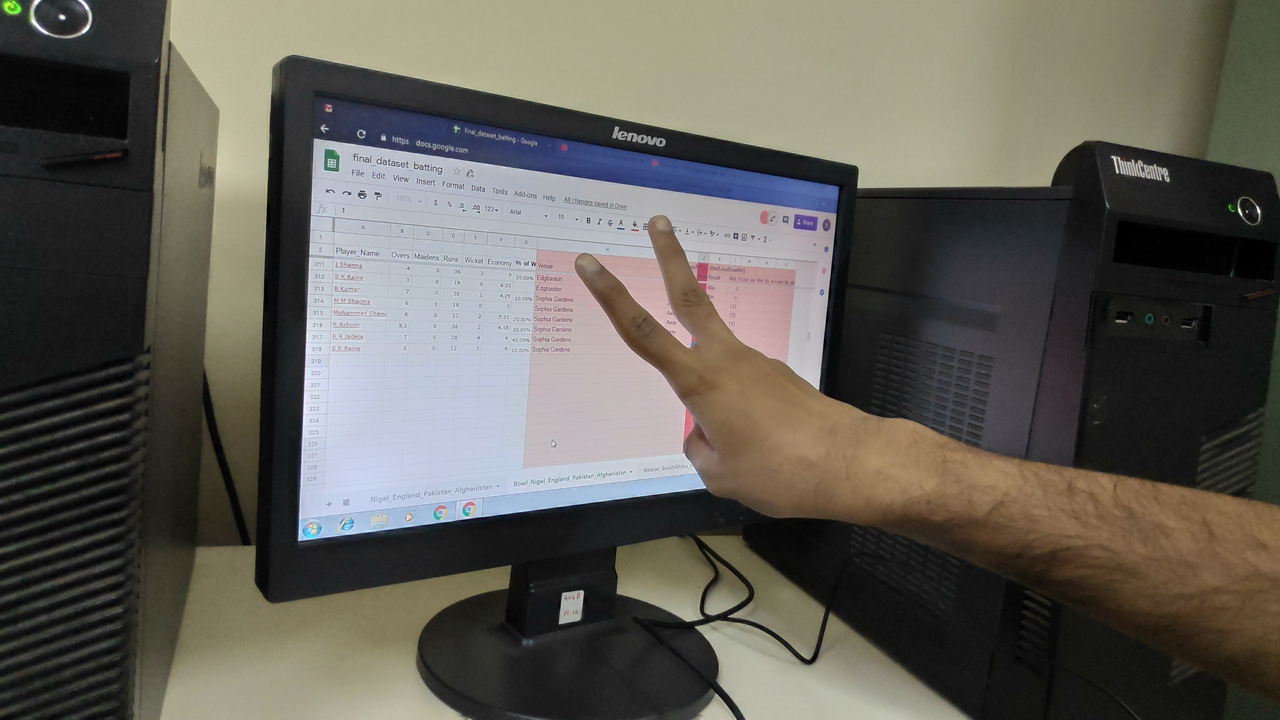fingertip: (632, 202, 688, 248), (566, 246, 622, 288)
